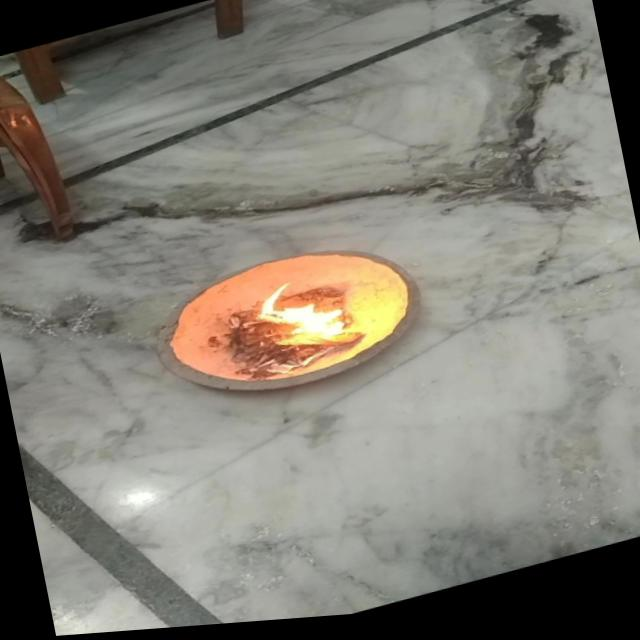fire: (248, 271, 360, 365)
